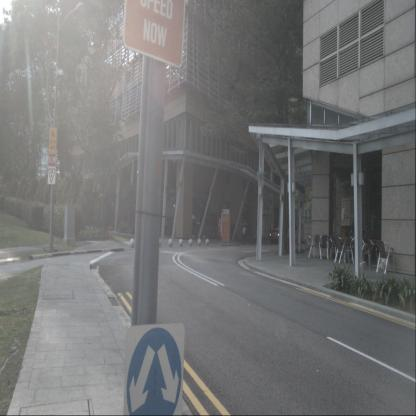human-pedestrian-adult: (242, 224, 246, 240)
vehicle-car: (270, 228, 286, 244)
